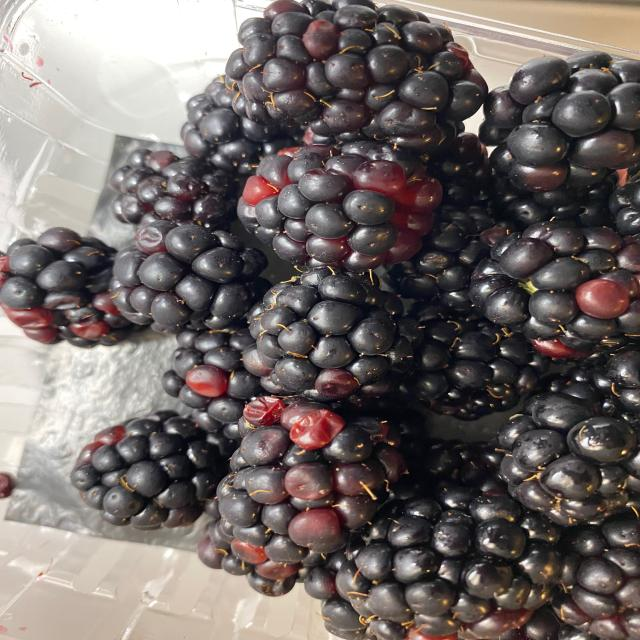blackberries: (10, 22, 627, 632)
